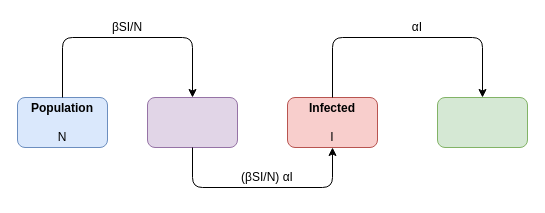
Some shapes in this 545 by 213 pixel diagram are drawn without their labels. The shapes that lost their labels are listed below. From the top down, each one's centre as x and y in pixels, then its label:
At pixel 192 122: "Susceptible S".
At pixel 482 122: "Recovered R".
